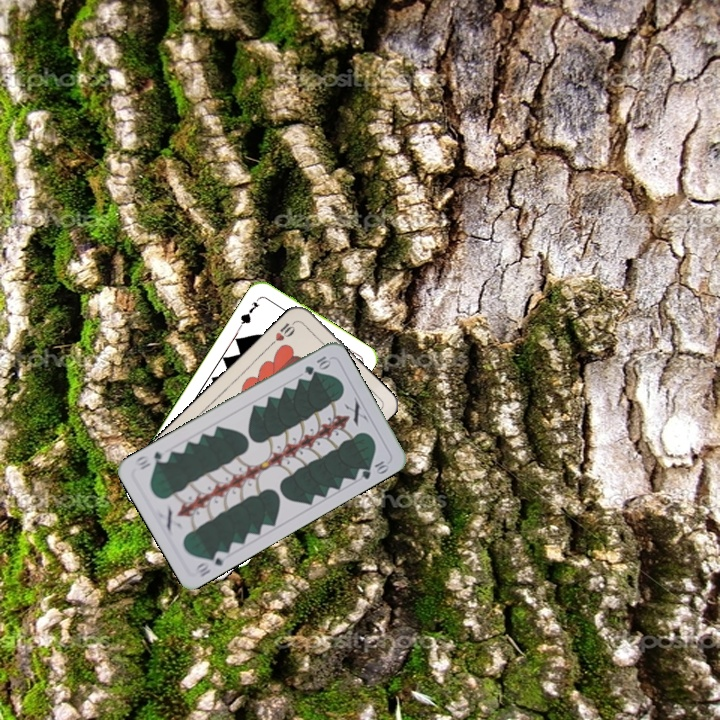G10: (190, 546, 230, 581), (300, 352, 333, 377)
G7: (236, 293, 263, 329)
H10: (266, 317, 299, 348)
